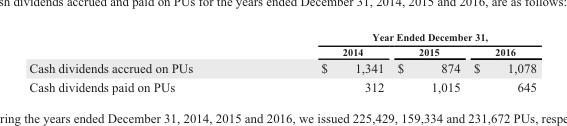table: (28, 29, 535, 94)
table column: (28, 29, 256, 94), (256, 29, 390, 94), (390, 29, 466, 94), (466, 29, 535, 94)
table column header: (28, 29, 535, 58)
table row: (28, 58, 535, 76), (28, 76, 535, 94), (28, 43, 535, 58), (28, 29, 535, 43)
table spanning cell: (256, 29, 535, 43)
